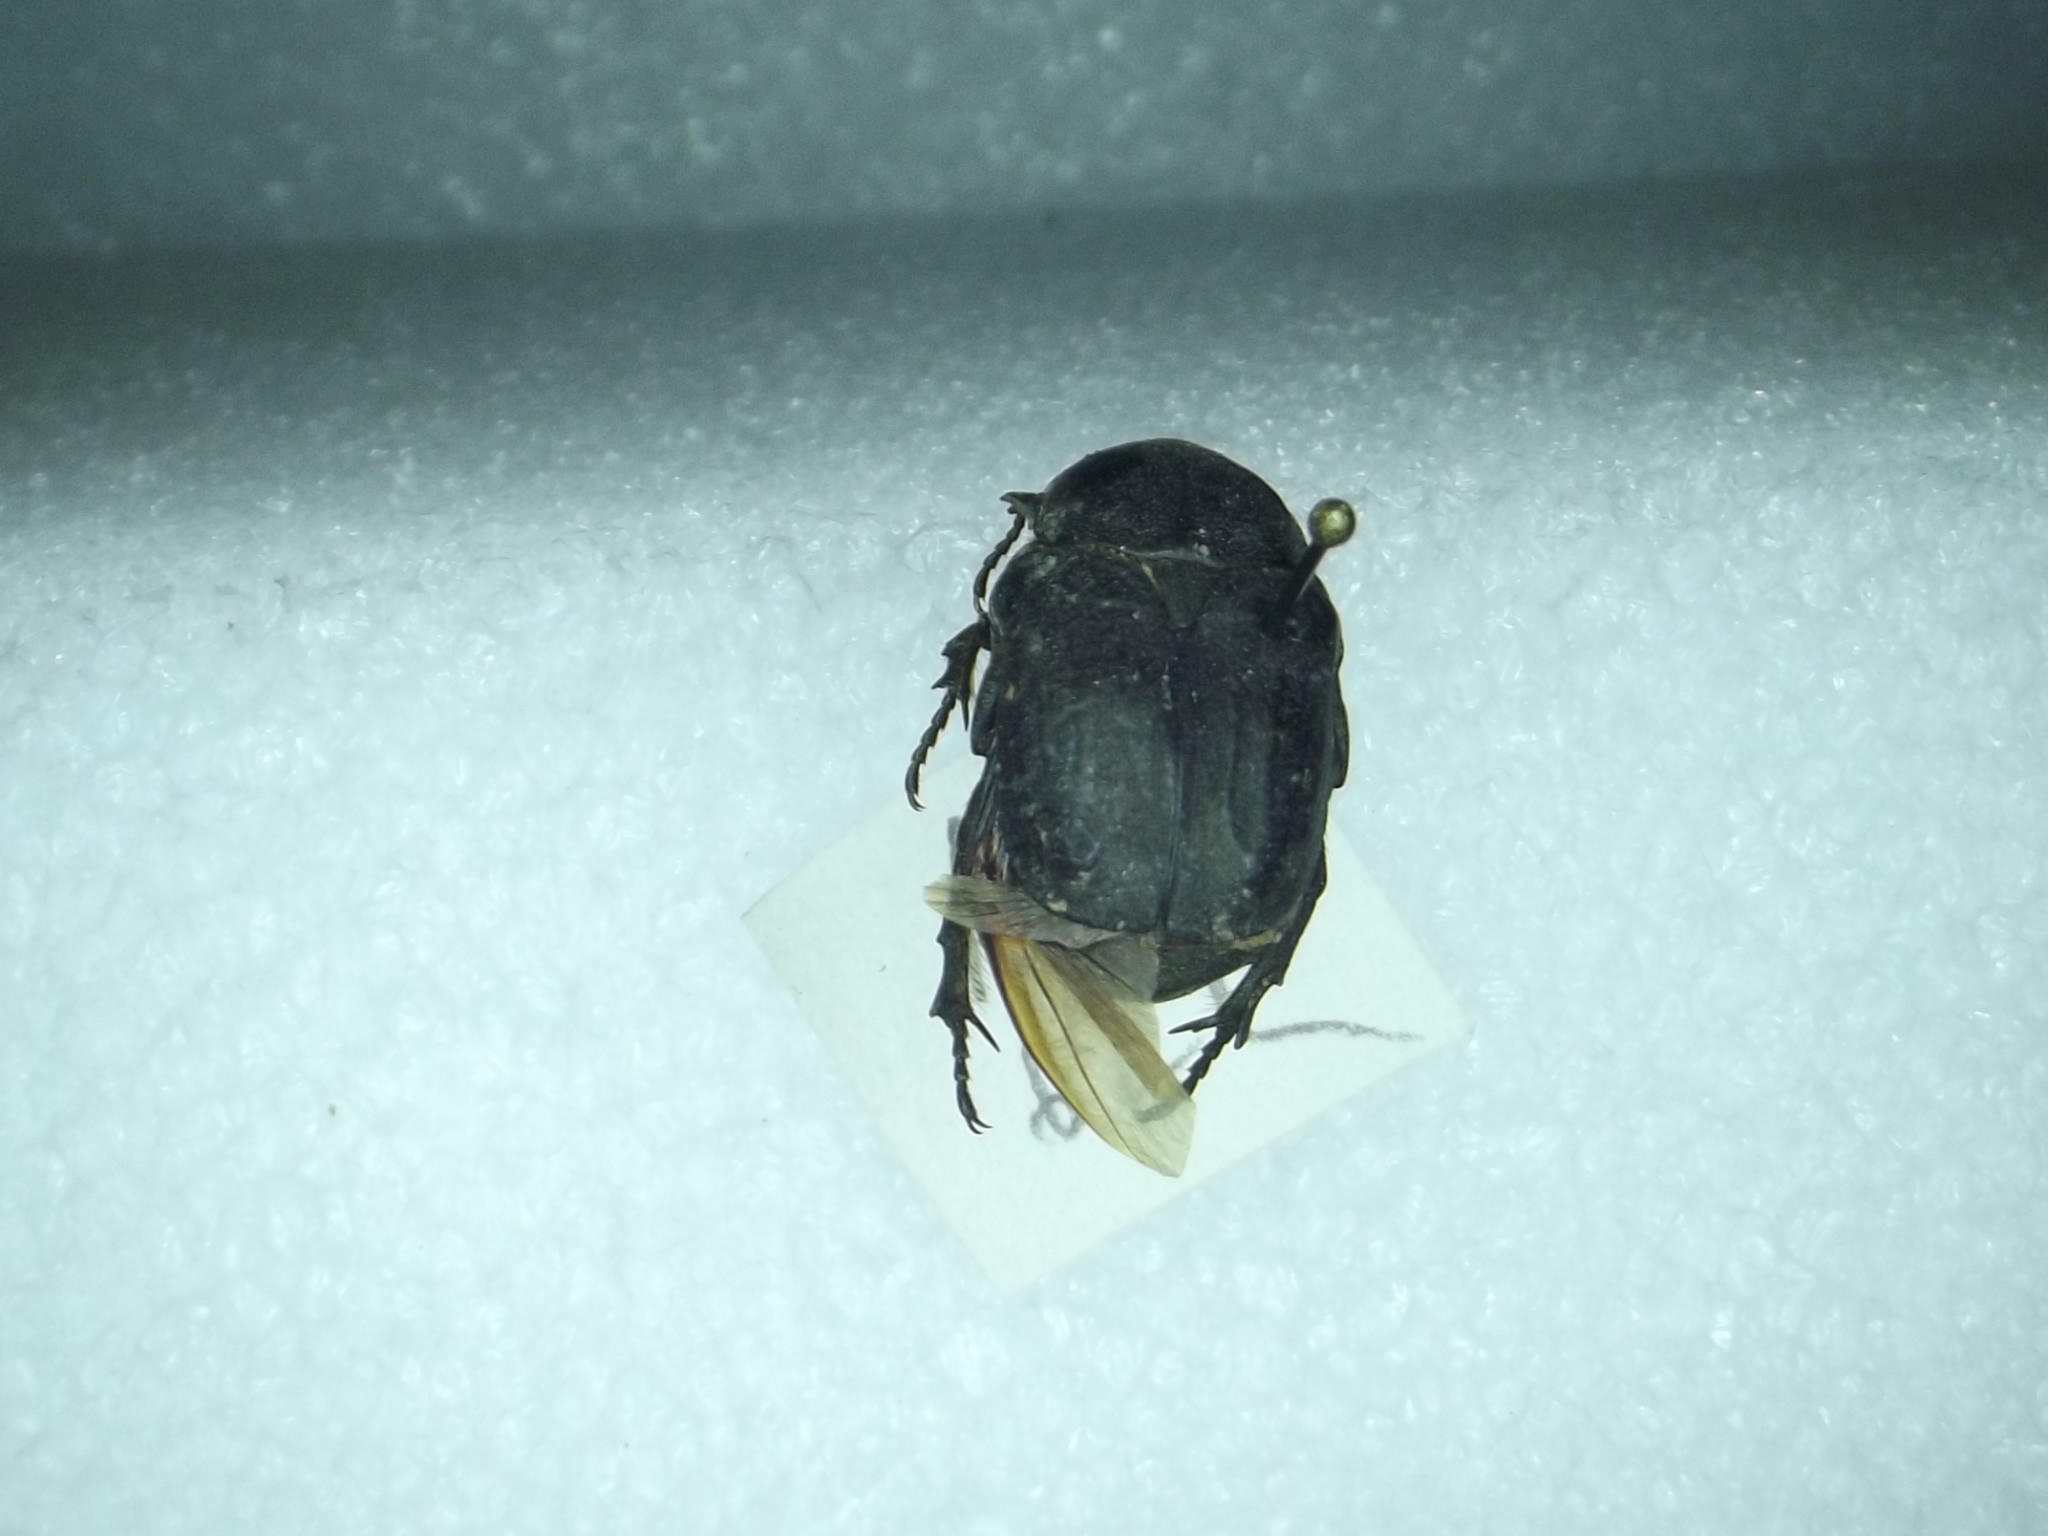Protaetia_asiatica: (900, 424, 1377, 1241)
